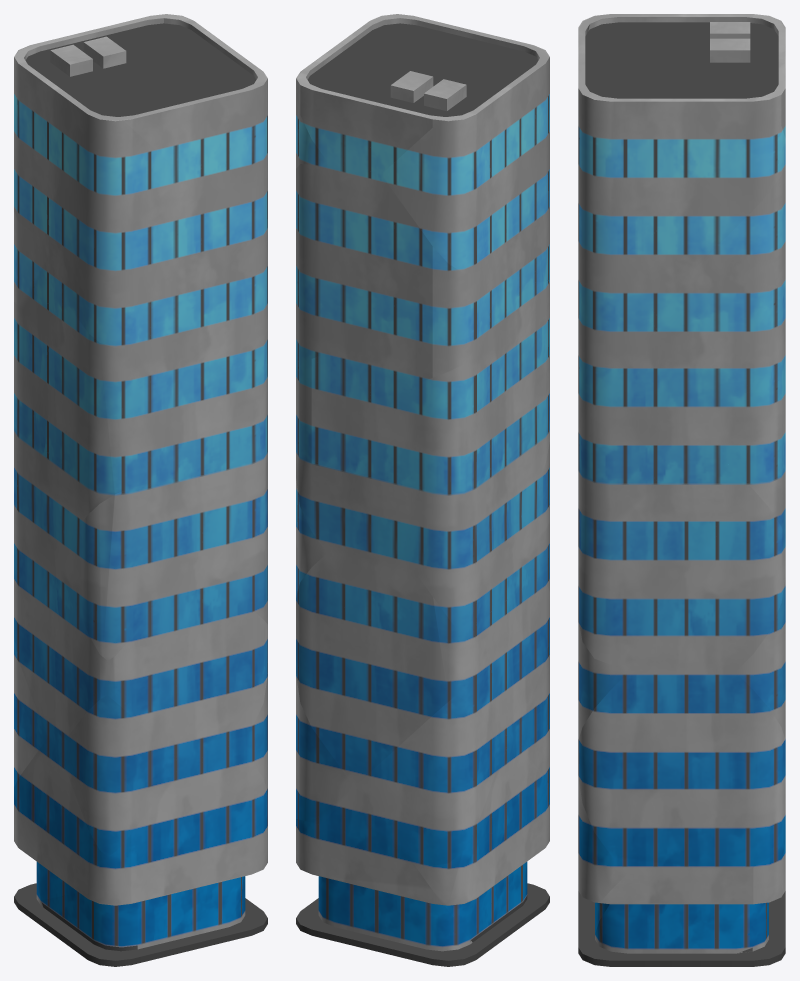
File: BuildingParts.fbx
The picture shows the model from 3 angles, left to right: view 1: azimuth 30°, elevation 25°; view 2: azimuth 150°, elevation 25°; view 3: azimuth 270°, elevation 25°; orthographic projection. The views are drawn at different scales.
Parts seen in each view (by area): view 1: Building1.006, Building1.026, Building1.017, Building1.034, Building1.015, Building1.035, Building1.024, Building1.029, Building1.028, Building1.023, Building1.012, Building1.007 (+13 smaller); view 2: Building1.027, Building1.013, Building1.018, Building1.010, Building1.031, Building1.023, Building1.032, Building1.035, Building1.017, Building1.021, Building1.028, Building1.009 (+12 smaller); view 3: Building1.030, Building1.020, Building1.013, Building1.011, Building1.015, Building1.033, Building1.016, Building1.008, Building1.012, Building1.025, Building1.007, Building1.003 (+10 smaller).
Part boxes in pixels (x1=…): Building1.006: x1=53, y1=87, x2=191, y2=348; Building1.026: x1=107, y1=554, x2=267, y2=762; Building1.017: x1=23, y1=299, x2=173, y2=494; Building1.034: x1=131, y1=749, x2=267, y2=949; Building1.015: x1=137, y1=244, x2=267, y2=421; Building1.035: x1=14, y1=741, x2=137, y2=947; Building1.024: x1=83, y1=478, x2=191, y2=660; Building1.029: x1=58, y1=695, x2=182, y2=856; Building1.028: x1=14, y1=566, x2=107, y2=747; Building1.023: x1=14, y1=431, x2=113, y2=618; Building1.012: x1=191, y1=97, x2=267, y2=269; Building1.007: x1=78, y1=73, x2=242, y2=181; Building1.027: x1=296, y1=553, x2=456, y2=786; Building1.013: x1=296, y1=161, x2=432, y2=463; Building1.018: x1=311, y1=354, x2=480, y2=494; Building1.010: x1=381, y1=87, x2=510, y2=273; Building1.031: x1=354, y1=695, x2=505, y2=865; Building1.023: x1=417, y1=431, x2=549, y2=628; Building1.032: x1=296, y1=814, x2=472, y2=951; Building1.035: x1=411, y1=741, x2=549, y2=939; Building1.017: x1=481, y1=280, x2=549, y2=483; Building1.021: x1=296, y1=452, x2=423, y2=575; Building1.028: x1=456, y1=576, x2=549, y2=747; Building1.009: x1=300, y1=73, x2=485, y2=174; Building1.030: x1=578, y1=672, x2=785, y2=872; Building1.020: x1=621, y1=440, x2=785, y2=671; Building1.013: x1=668, y1=165, x2=785, y2=483; Building1.011: x1=621, y1=116, x2=785, y2=294; Building1.015: x1=578, y1=258, x2=717, y2=421; Building1.033: x1=595, y1=867, x2=753, y2=953; Building1.016: x1=578, y1=408, x2=703, y2=521; Building1.008: x1=578, y1=63, x2=781, y2=124; Building1.012: x1=578, y1=107, x2=621, y2=270; Building1.025: x1=578, y1=508, x2=621, y2=664; Building1.007: x1=578, y1=24, x2=681, y2=88; Building1.003: x1=578, y1=891, x2=785, y2=966.
Bounding box in the file's own units: 4.28 × 19.86 × 4.28.
